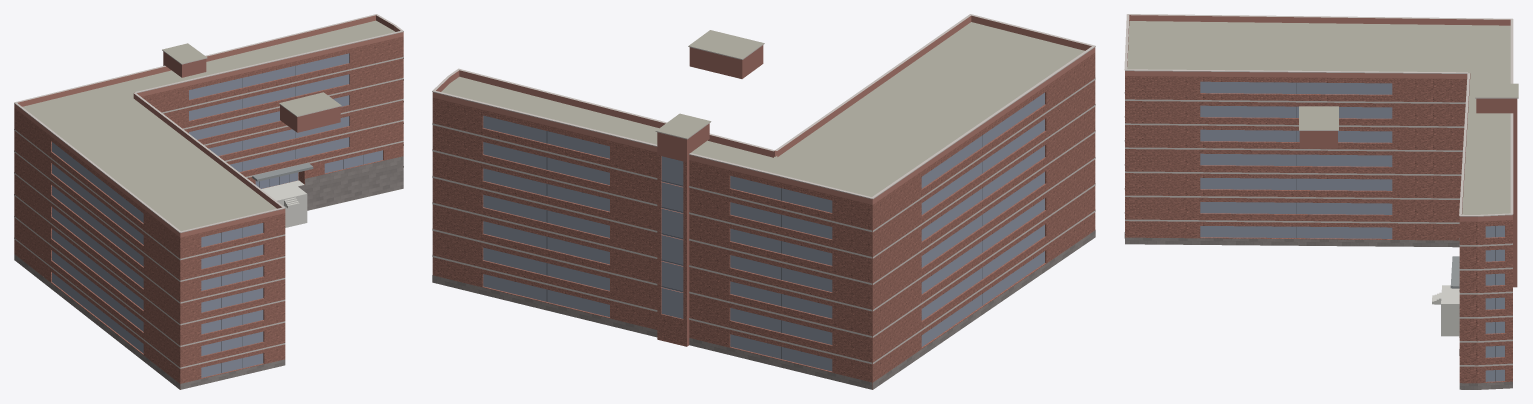
The picture shows the model from 3 angles, left to right: view 1: azimuth 30°, elevation 25°; view 2: azimuth 150°, elevation 25°; view 3: azimuth 270°, elevation 25°; orthographic projection. The views are drawn at different scales.
Visible parts, largest first — view 1: law15_1__wall, law15_1__roof, law15_1__glass, law15_1__trim, law15_1__parapet, law15_1__base, law15_1__wall2, law15_1__entranceStair, law15_1__canopy; view 2: law15_1__wall, law15_1__glass, law15_1__roof, law15_1__trim, law15_1__parapet, law15_1__base, law15_1__wall2; view 3: law15_1__wall, law15_1__roof, law15_1__glass, law15_1__trim, law15_1__parapet, law15_1__base, law15_1__wall2, law15_1__entranceStair.
Boxes of the visible parts, x1,y1,x2,y2 form: law15_1__wall: (14, 36, 403, 389); law15_1__roof: (22, 20, 398, 231); law15_1__glass: (52, 53, 382, 377); law15_1__trim: (14, 14, 403, 368); law15_1__parapet: (14, 15, 403, 237); law15_1__base: (14, 156, 403, 389); law15_1__wall2: (163, 51, 340, 132); law15_1__entranceStair: (261, 180, 307, 227); law15_1__canopy: (252, 163, 313, 181); law15_1__wall: (432, 53, 1095, 389); law15_1__glass: (483, 92, 1044, 371); law15_1__roof: (441, 22, 1084, 196); law15_1__trim: (432, 14, 1095, 364); law15_1__parapet: (432, 15, 1095, 204); law15_1__base: (432, 230, 1095, 389); law15_1__wall2: (657, 45, 763, 346); law15_1__wall: (1125, 76, 1512, 383); law15_1__roof: (1127, 21, 1518, 247); law15_1__glass: (1200, 81, 1504, 381); law15_1__trim: (1124, 14, 1518, 366); law15_1__parapet: (1125, 15, 1512, 221); law15_1__base: (1124, 232, 1512, 389); law15_1__wall2: (1299, 98, 1517, 287); law15_1__entranceStair: (1432, 285, 1459, 336).
Size of the model in its own units: 64.95 by 28.91 by 53.52.
Materials: 11 (2 with a texture image).
